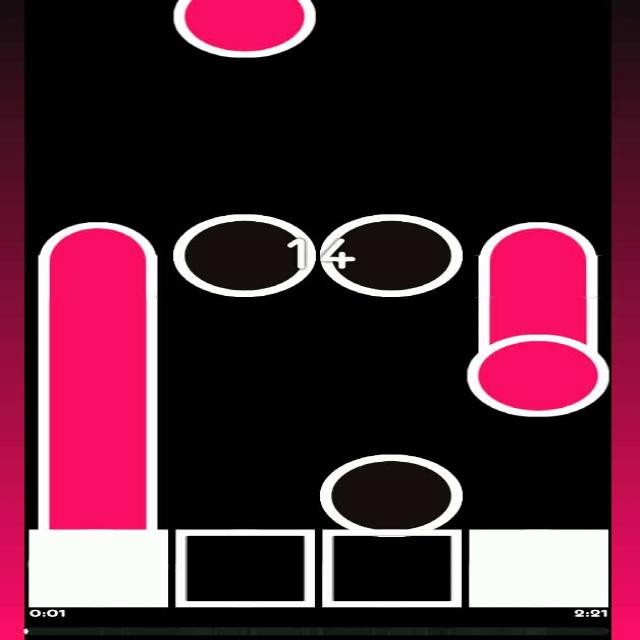end_hold: (34, 208, 162, 264), (472, 214, 606, 264)
note: (319, 215, 463, 296), (175, 214, 313, 296), (319, 453, 464, 531)
start_hold: (468, 324, 608, 416), (173, 0, 319, 57)
